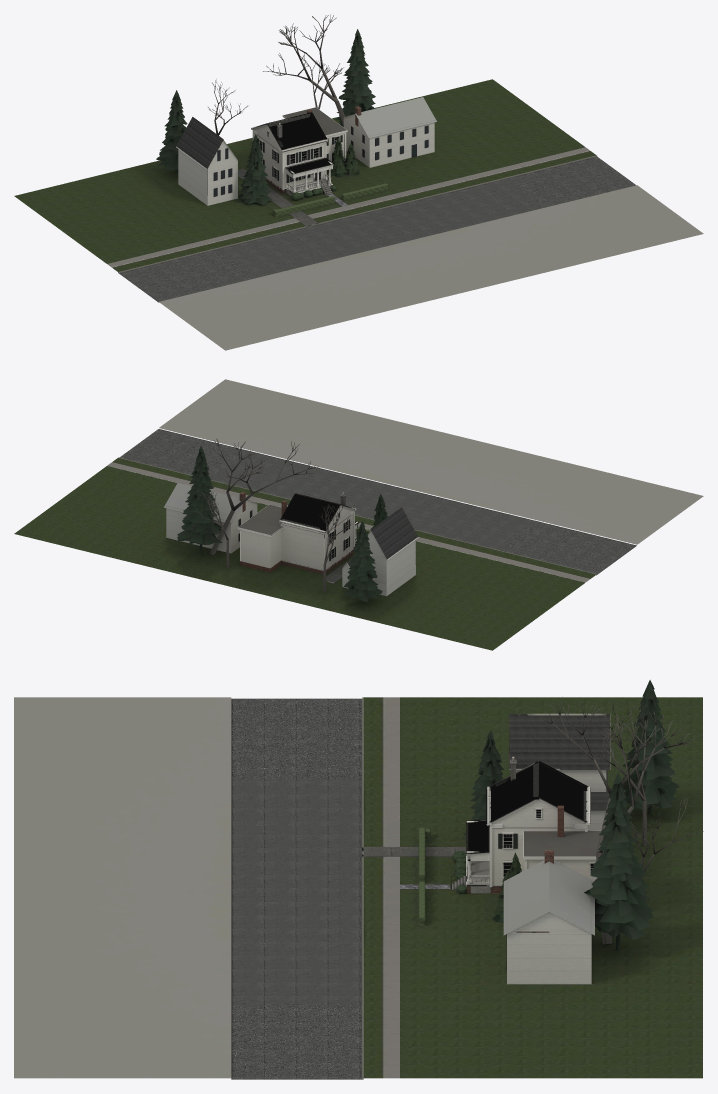
Rendered from einstein-mercer-street-front-mobile.glb.
3 views of the same model, one above another, from view 1: azimuth 30°, elevation 25°; view 2: azimuth 150°, elevation 25°; view 3: azimuth 270°, elevation 25° (orthographic). The views are drawn at different scales.
Parts seen in each view (by area): view 1: far_side, lawn, street, neighbour_right, street_left, street_right, neighbour_left, tree_lawn, sidewalk, spruce_back, roof, artifact_house (+8 smaller); view 2: far_side, lawn, street, street_left, street_right, neighbour_left, artifact_house, neighbour_right, tree_lawn, spruce_back, spruce_far_left, sidewalk (+6 smaller); view 3: far_side, lawn, street, street_left, neighbour_right, street_right, tree_lawn, spruce_back, neighbour_left, sidewalk, spruce_far_left, roof (+10 smaller).
Boxes of the visible parts, x1,y1,x2,y2 form: far_side: [159, 185, 703, 350]; lawn: [14, 79, 584, 263]; street: [220, 180, 540, 277]; neighbour_right: [343, 97, 436, 167]; street_left: [119, 248, 258, 302]; street_right: [502, 156, 635, 208]; neighbour_left: [176, 117, 237, 205]; tree_lawn: [112, 150, 596, 271]; sidewalk: [107, 147, 589, 267]; spruce_back: [335, 29, 375, 126]; roof: [253, 112, 328, 151]; artifact_house: [254, 125, 324, 189]; far_side: [159, 379, 703, 544]; lawn: [14, 466, 584, 650]; street: [215, 452, 535, 549]; street_left: [497, 521, 636, 574]; street_right: [119, 429, 253, 480]; neighbour_left: [367, 507, 418, 596]; artifact_house: [282, 506, 353, 570]; neighbour_right: [164, 483, 257, 553]; tree_lawn: [112, 458, 596, 578]; spruce_back: [177, 445, 222, 554]; spruce_far_left: [344, 521, 382, 603]; sidewalk: [107, 462, 589, 582]; far_side: [14, 697, 231, 1078]; lawn: [400, 697, 702, 1078]; street: [231, 779, 362, 1003]; street_left: [231, 698, 362, 779]; neighbour_right: [503, 860, 594, 984]; street_right: [231, 1003, 362, 1079]; tree_lawn: [363, 697, 384, 1078]; spruce_back: [584, 773, 654, 950]; neighbour_left: [509, 713, 610, 791]; sidewalk: [385, 697, 399, 1078]; spruce_far_left: [622, 680, 679, 814]; roof: [486, 761, 590, 824].
Size of what is drawn, in the model's own units: 85 by 21.3 by 65.09.
Materials: 7 (6 with a texture image).
